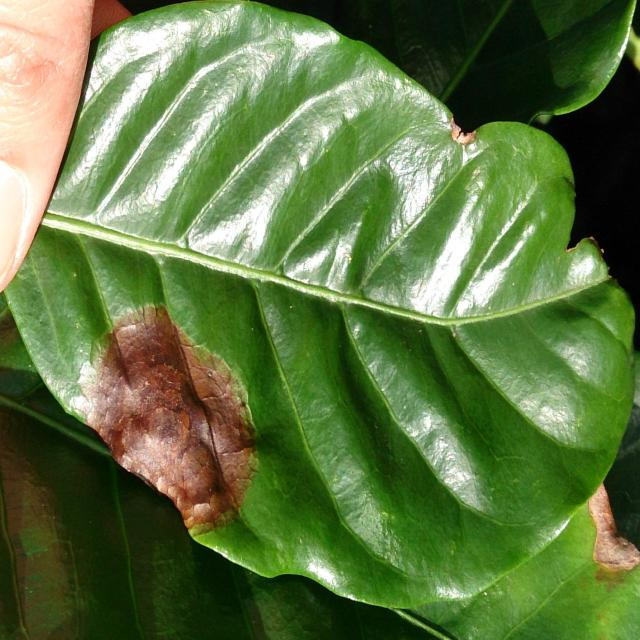Enfermedad-Mancha-de-hierro: (5, 0, 638, 630)
